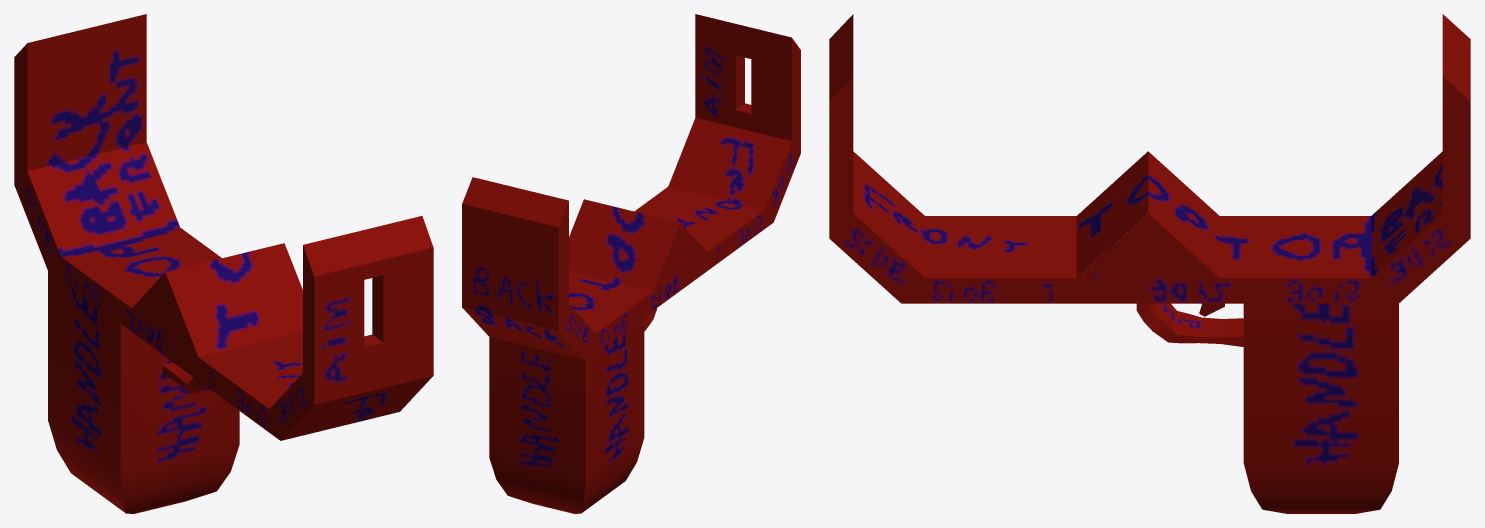
File: GunBaseSmall.fbx
The picture shows the model from 3 angles, left to right: view 1: azimuth 30°, elevation 25°; view 2: azimuth 150°, elevation 25°; view 3: azimuth 270°, elevation 25°; orthographic projection. The views are drawn at different scales.
Parts seen in each view (by area): view 1: GunBaseTiny; view 2: GunBaseTiny; view 3: GunBaseTiny.
Part boxes in pixels (left/top/right/bottom): GunBaseTiny: left=14, top=14, right=433, bottom=513; GunBaseTiny: left=462, top=14, right=800, bottom=513; GunBaseTiny: left=829, top=14, right=1470, bottom=513.
Bounding box in the file's own units: 4.35 × 3.41 × 1.
Materials: 1 (1 with a texture image).
